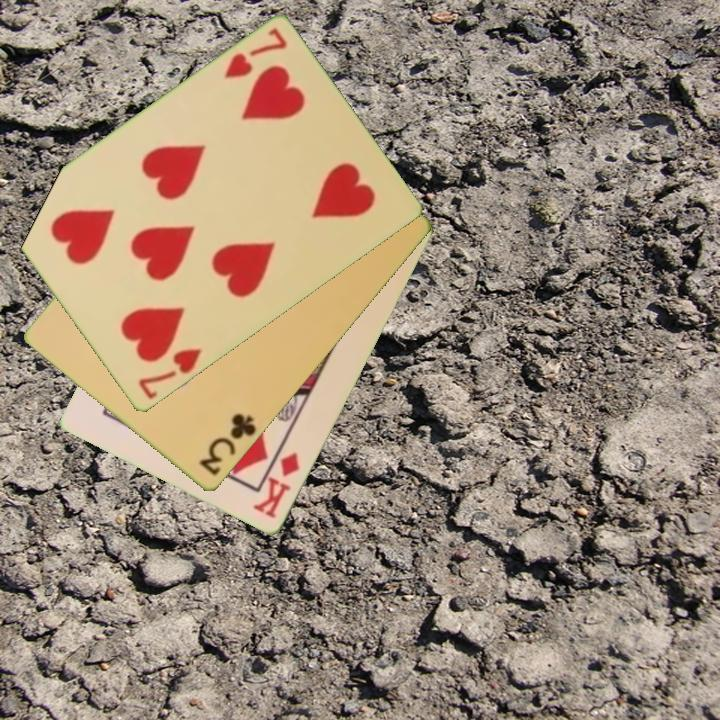3c: (195, 410, 260, 479)
7h: (135, 345, 205, 403), (220, 25, 290, 82)
Kd: (250, 449, 303, 522)
